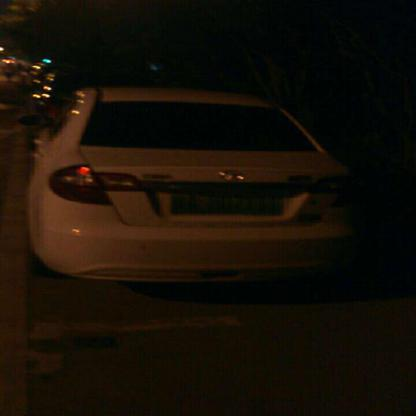lp: (170, 192, 282, 214)
